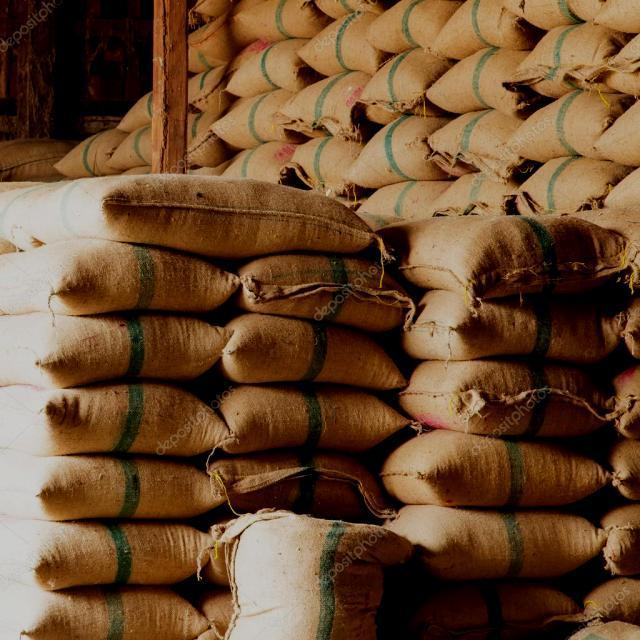gunny_bag: (222, 505, 415, 640), (374, 213, 635, 309), (97, 177, 384, 260), (390, 347, 624, 443), (378, 421, 611, 512), (38, 236, 252, 323), (393, 290, 621, 370), (216, 305, 410, 397), (398, 502, 610, 584), (230, 244, 415, 334), (42, 299, 228, 388), (374, 566, 596, 640), (204, 380, 414, 458), (42, 374, 228, 462), (42, 444, 228, 532), (29, 516, 211, 598), (210, 446, 383, 522), (22, 580, 212, 640), (502, 82, 627, 170), (342, 99, 453, 188), (509, 19, 624, 103), (425, 44, 545, 118), (362, 44, 468, 123), (277, 68, 382, 146), (502, 152, 626, 216), (294, 7, 402, 76), (424, 110, 535, 176), (434, 0, 548, 63), (224, 33, 324, 101), (219, 86, 314, 144), (288, 128, 382, 186), (221, 133, 321, 183), (245, 0, 328, 39)
